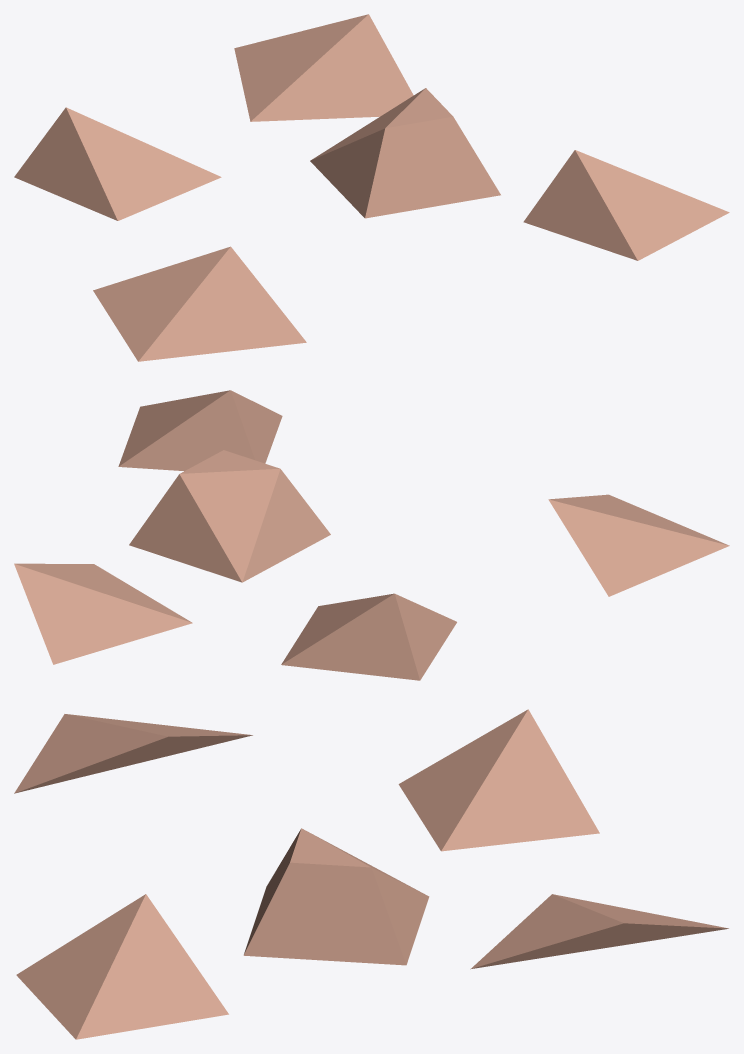
File: rocks_smallA.lod.glb
The picture shows the model from 3 angles, top to bottom: view 1: azimuth 30°, elevation 25°; view 2: azimuth 150°, elevation 25°; view 3: azimuth 270°, elevation 25°; orthographic projection. The views are drawn at different scales.
Visible parts, largest first — view 1: rocks_smallA; view 2: rocks_smallA; view 3: rocks_smallA.
Boxes of the visible parts, x1=… form: rocks_smallA: x1=14, y1=14, x2=729, y2=361; rocks_smallA: x1=14, y1=390, x2=729, y2=680; rocks_smallA: x1=14, y1=709, x2=728, y2=1039.
Size of the model in its own units: 0.9372 by 0.105 by 0.8699.
